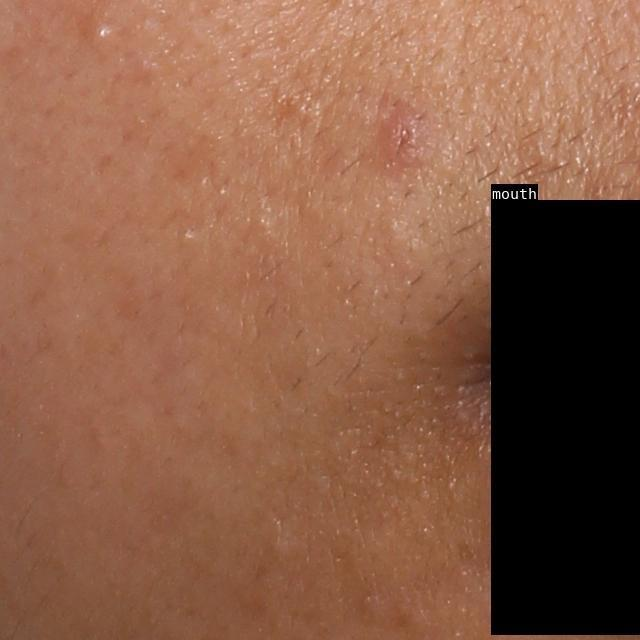comedo: (89, 22, 114, 45)
papule: (373, 108, 440, 167)
